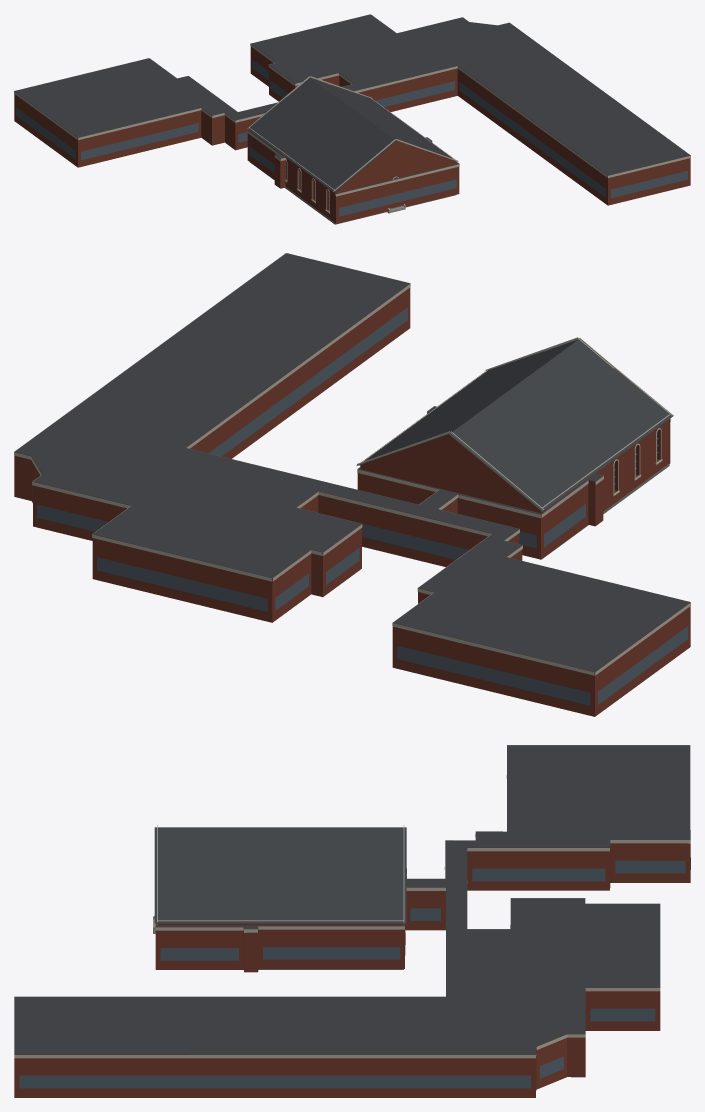
Rendered from church-unnamed-nlr-bo240152022.glb.
The picture shows the model from 3 angles, top to bottom: view 1: azimuth 30°, elevation 25°; view 2: azimuth 150°, elevation 25°; view 3: azimuth 270°, elevation 25°; orthographic projection. The views are drawn at different scales.
Visible parts, largest first — view 1: church_unnamed_nlr_bo240152022; view 2: church_unnamed_nlr_bo240152022; view 3: church_unnamed_nlr_bo240152022.
Part boxes in pixels (x1,y1,x2,y2): church_unnamed_nlr_bo240152022: (14,14,690,224); church_unnamed_nlr_bo240152022: (14,253,690,716); church_unnamed_nlr_bo240152022: (14,745,690,1097).
Bounding box in the file's own units: 89.58 × 13.83 × 82.66.
